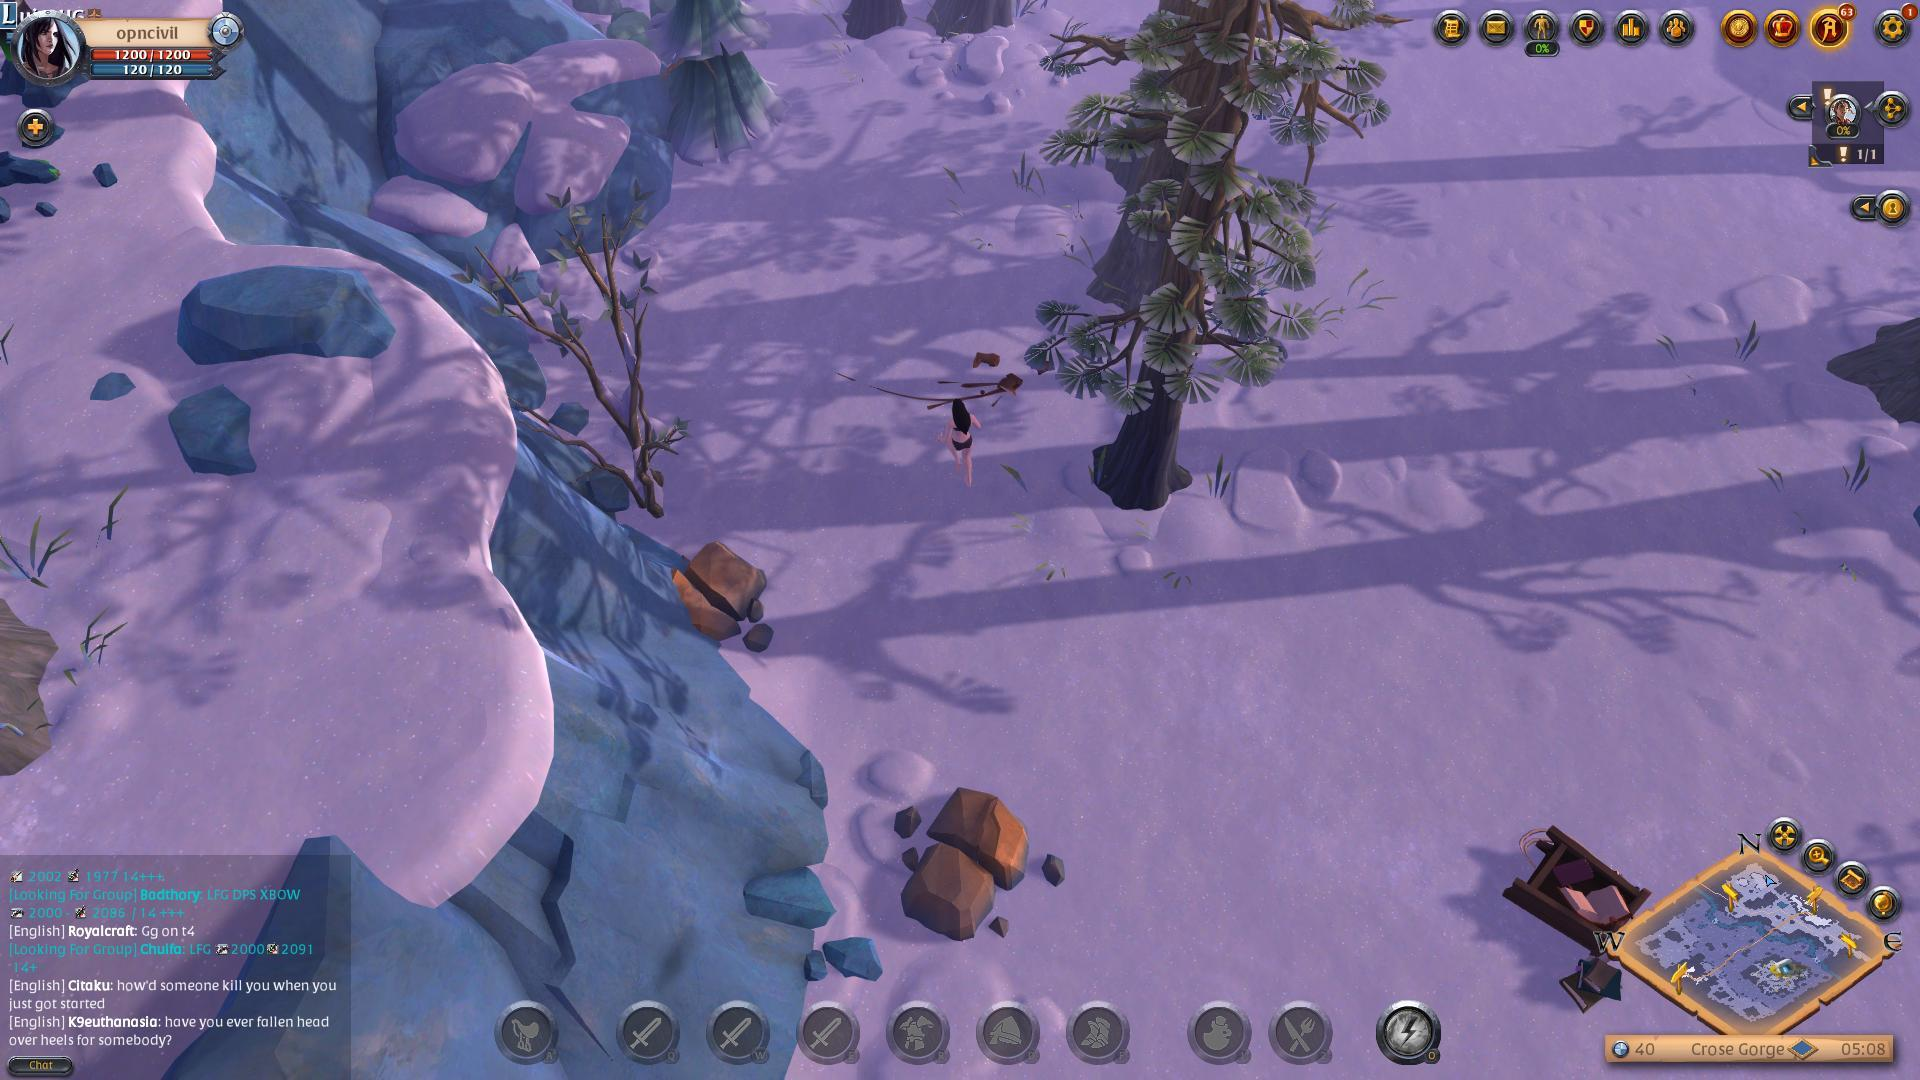limestone: (878, 778, 1048, 960), (671, 529, 777, 649)
